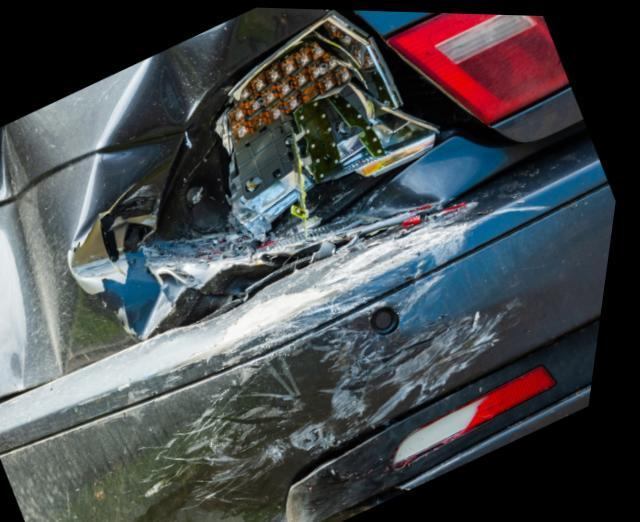crack: (373, 482, 426, 505)
dent: (76, 6, 456, 337), (0, 112, 86, 379)
lamp broken: (227, 8, 445, 239)
scratch: (131, 213, 538, 510)
